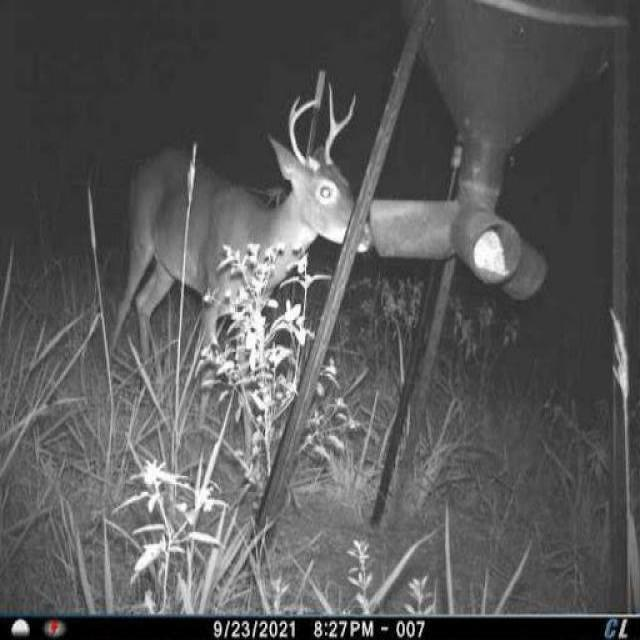deer: (119, 65, 369, 467)
